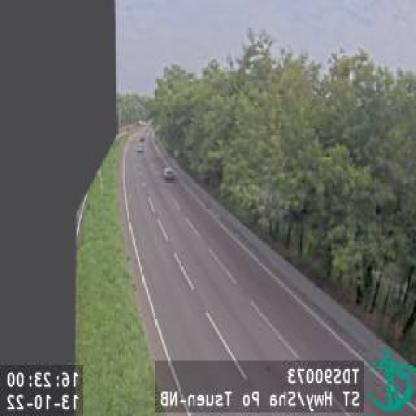Car: (161, 166, 175, 180)
